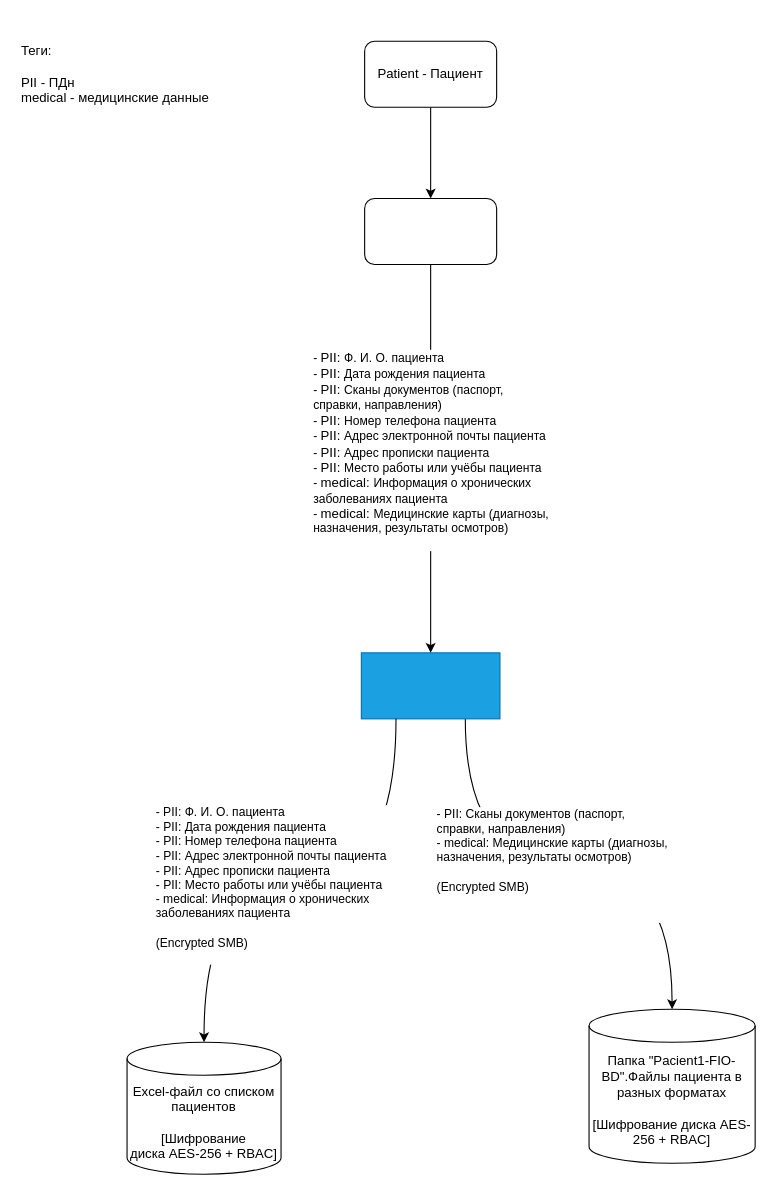
This 774x1194 diagram has some shape labels left out. Each missing label, with the centre of its shape:
"1.0 Регистрация пациента в системе [ Data Minimization]" belongs at (x=430, y=685).
"Administrator - Сотрудник ресепшена" belongs at (x=430, y=231).
